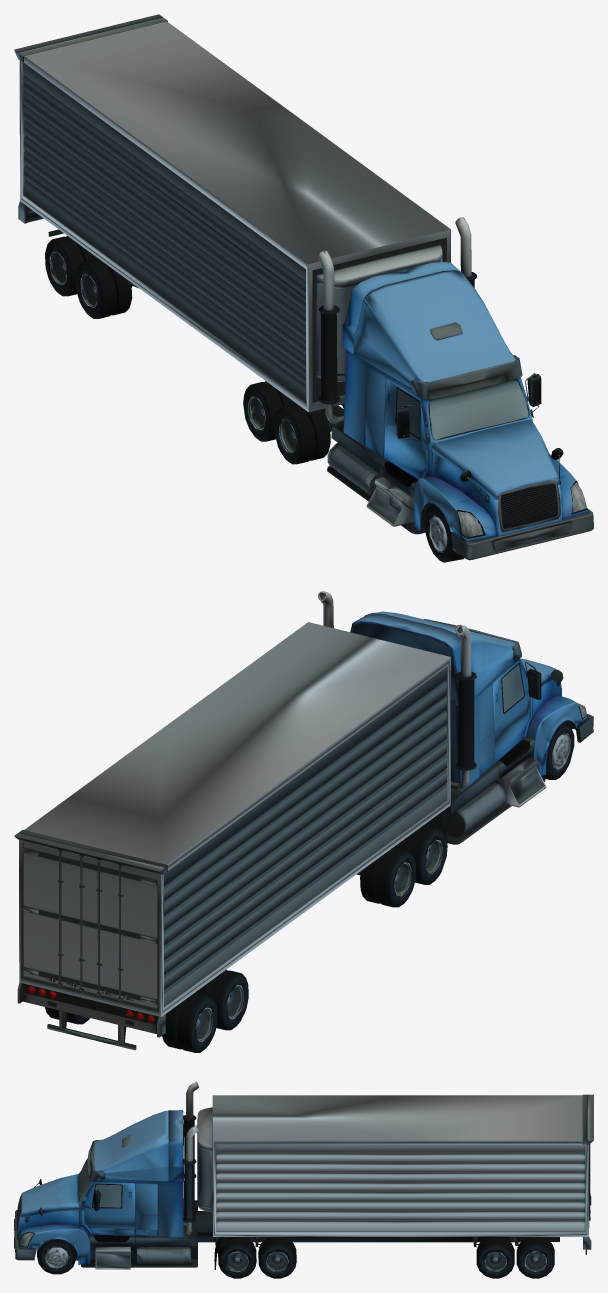
Rendered from semitruck.glb.
The picture shows the model from 3 angles, top to bottom: view 1: azimuth 30°, elevation 25°; view 2: azimuth 150°, elevation 25°; view 3: azimuth 270°, elevation 25°; orthographic projection. The views are drawn at different scales.
Parts seen in each view (by area): view 1: semi_truck.1_1; view 2: semi_truck.1_1; view 3: semi_truck.1_1.
Boxes of the visible parts, bbox=[...] form: semi_truck.1_1: bbox=[14, 14, 593, 562]; semi_truck.1_1: bbox=[14, 591, 593, 1052]; semi_truck.1_1: bbox=[14, 1081, 593, 1278].
Size of the model in its own units: 1.51 by 2.18 by 7.5.
Materials: 1 (1 with a texture image).
